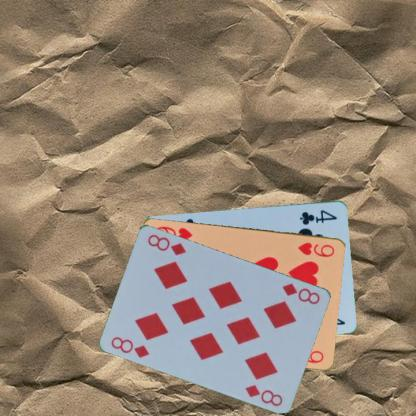4c: (297, 207, 339, 226)
8d: (280, 280, 322, 306), (108, 334, 150, 359)
9h: (295, 239, 336, 258)
